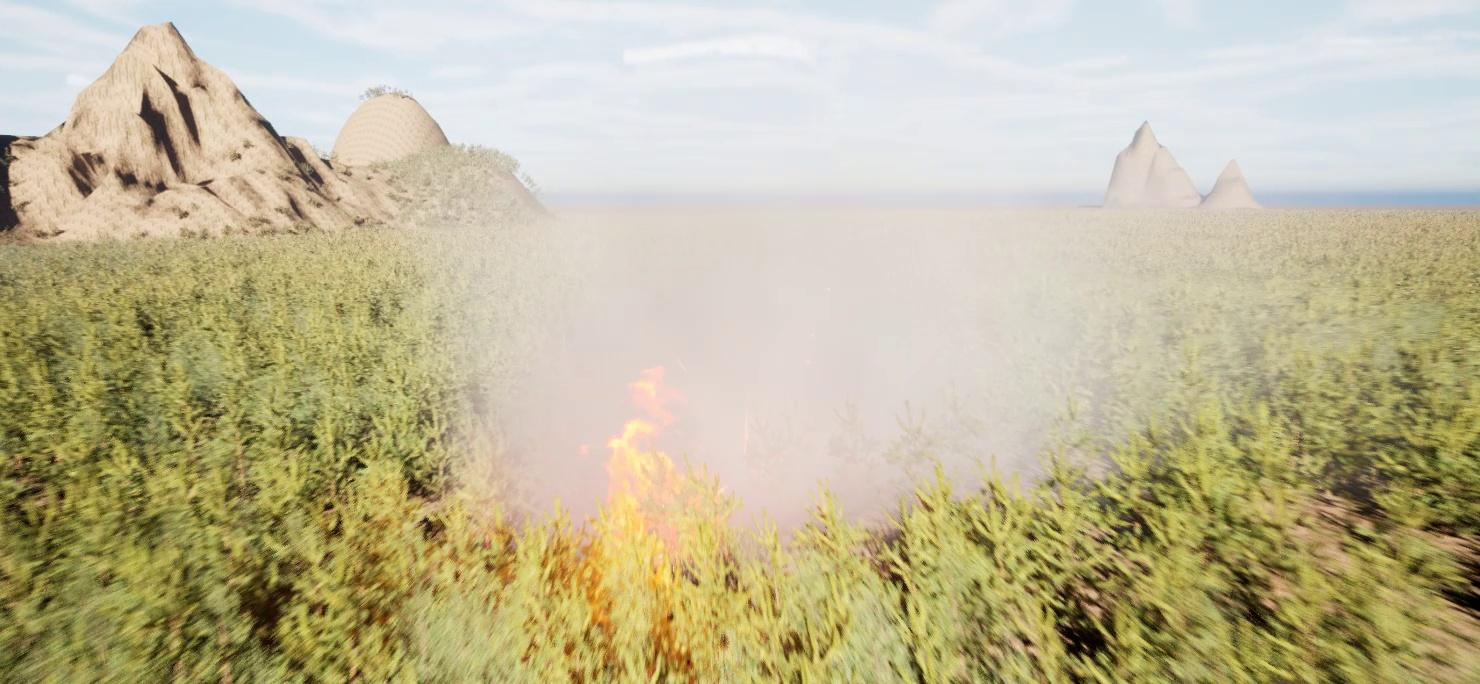fire: (577, 364, 725, 581)
smoke: (437, 127, 1325, 553)
